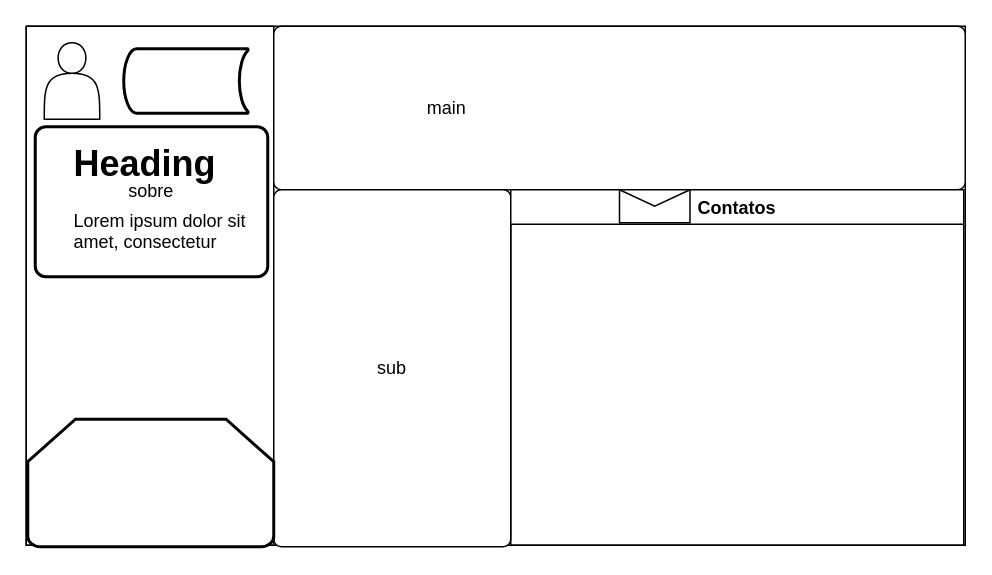
The diagram is 992 pixels wide and 575 high, and some of its shapes have lost their labels. Each missing label, with the centre of its shape:
"social media" goes at pixel 150 482.
"title" goes at pixel 185 80.
